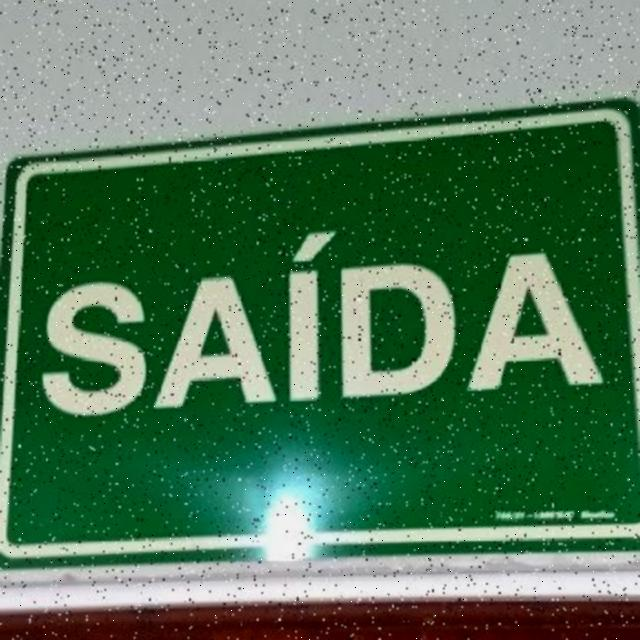emergency_exit: (0, 97, 640, 571)
